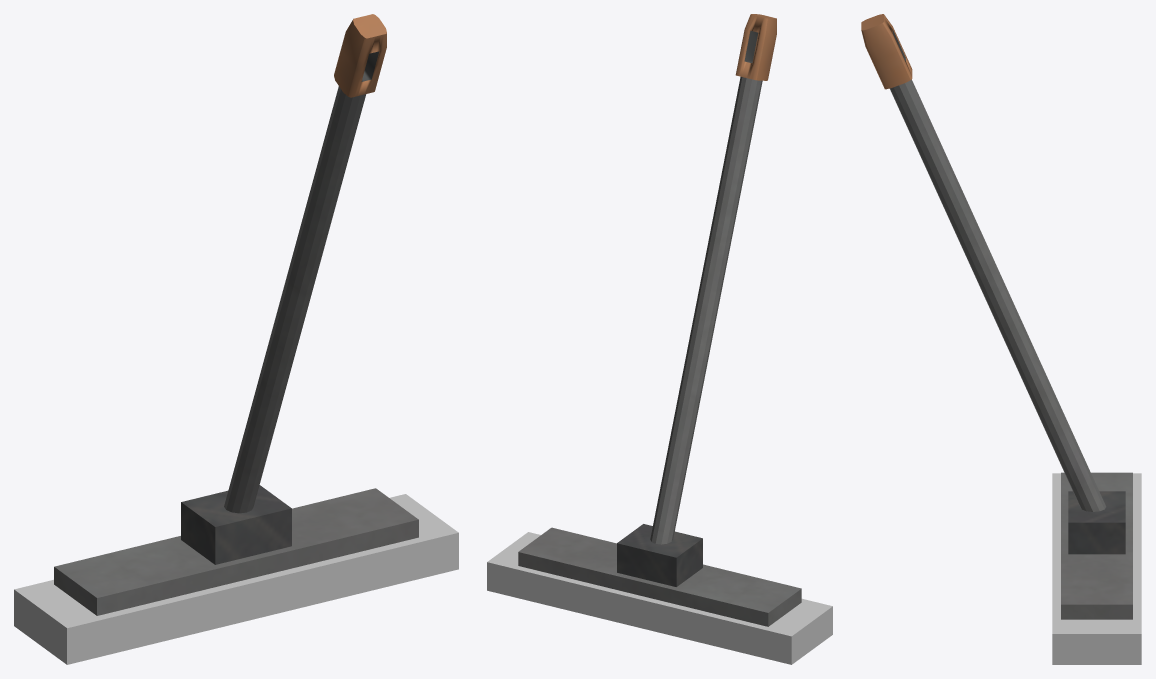
File: mop.fbx
The picture shows the model from 3 angles, left to right: view 1: azimuth 30°, elevation 25°; view 2: azimuth 150°, elevation 25°; view 3: azimuth 270°, elevation 25°; orthographic projection. The views are drawn at different scales.
Visible parts, largest first — view 1: sponge3, connecter2, pole, connecter, cap; view 2: sponge3, pole, connecter2, connecter, cap; view 3: pole, sponge3, connecter2, connecter, cap.
Part boxes in pixels (x1=…): sponge3: x1=14, y1=494, x2=458, y2=664; connecter2: x1=54, y1=488, x2=418, y2=615; pole: x1=224, y1=86, x2=366, y2=513; connecter: x1=181, y1=485, x2=291, y2=564; cap: x1=334, y1=14, x2=386, y2=97; sponge3: x1=487, y1=532, x2=832, y2=664; pole: x1=650, y1=77, x2=762, y2=544; connecter2: x1=518, y1=527, x2=801, y2=626; connecter: x1=617, y1=524, x2=702, y2=586; cap: x1=735, y1=14, x2=776, y2=80; pole: x1=890, y1=79, x2=1106, y2=511; sponge3: x1=1052, y1=473, x2=1141, y2=664; connecter2: x1=1061, y1=472, x2=1132, y2=619; connecter: x1=1068, y1=491, x2=1125, y2=554; cap: x1=861, y1=14, x2=912, y2=89.
Bounding box in the file's own units: 86.06 × 142 × 63.45.
